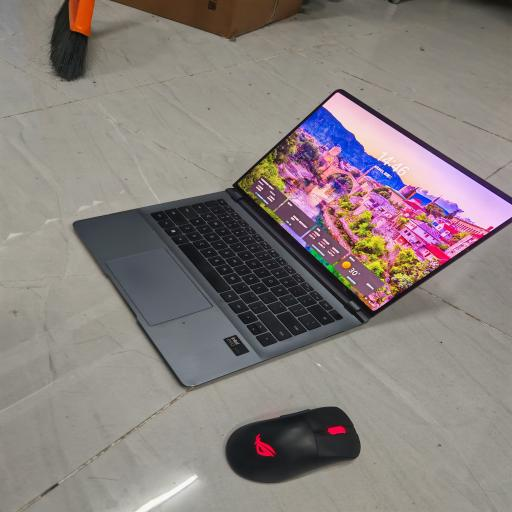laptop: (73, 90, 512, 386)
mouse: (226, 406, 360, 482)
